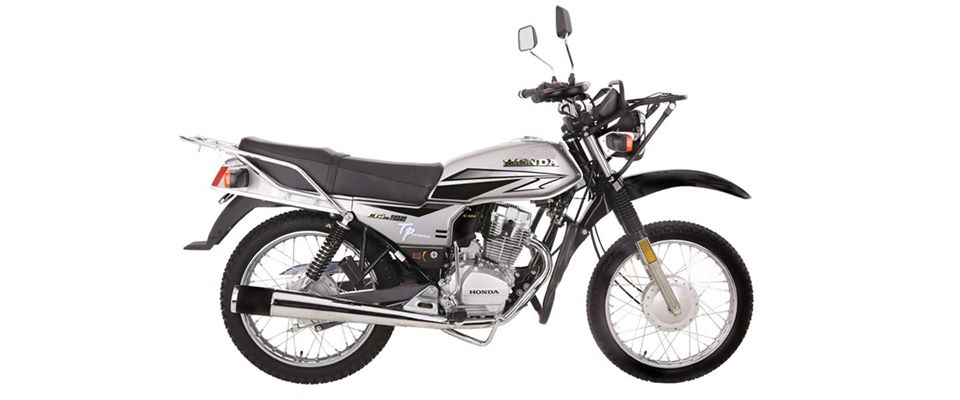moto: (174, 5, 759, 390)
